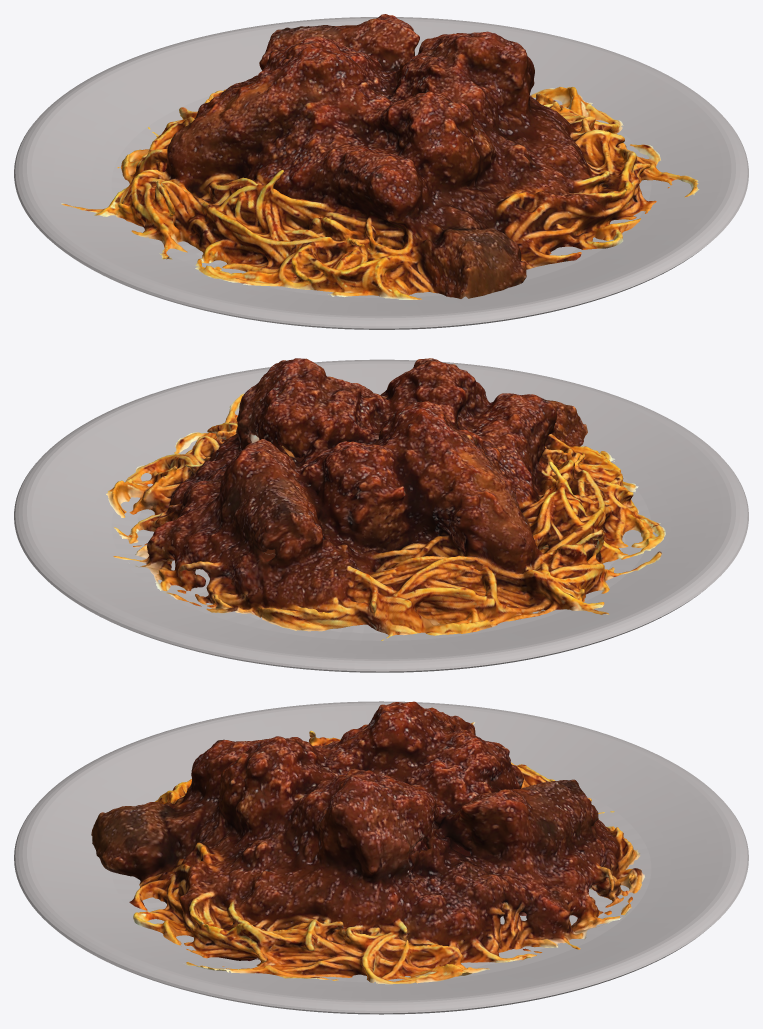
File: pasta_with_meatballs_and_sausage.glb
The picture shows the model from 3 angles, top to bottom: view 1: azimuth 30°, elevation 25°; view 2: azimuth 150°, elevation 25°; view 3: azimuth 270°, elevation 25°; orthographic projection.
Visible parts, largest first — view 1: 3DModel_2, Circle_3; view 2: 3DModel_2, Circle_3; view 3: 3DModel_2, Circle_3.
Boxes of the visible parts, x1,y1,x2,y2 form: 3DModel_2: (61, 14, 699, 299); Circle_3: (14, 17, 748, 329); 3DModel_2: (106, 358, 665, 640); Circle_3: (14, 359, 748, 672); 3DModel_2: (91, 701, 644, 984); Circle_3: (14, 701, 748, 1014).
Bounding box in the file's own units: 9.75 × 2.4 × 9.75.
Materials: 2 (1 with a texture image).
